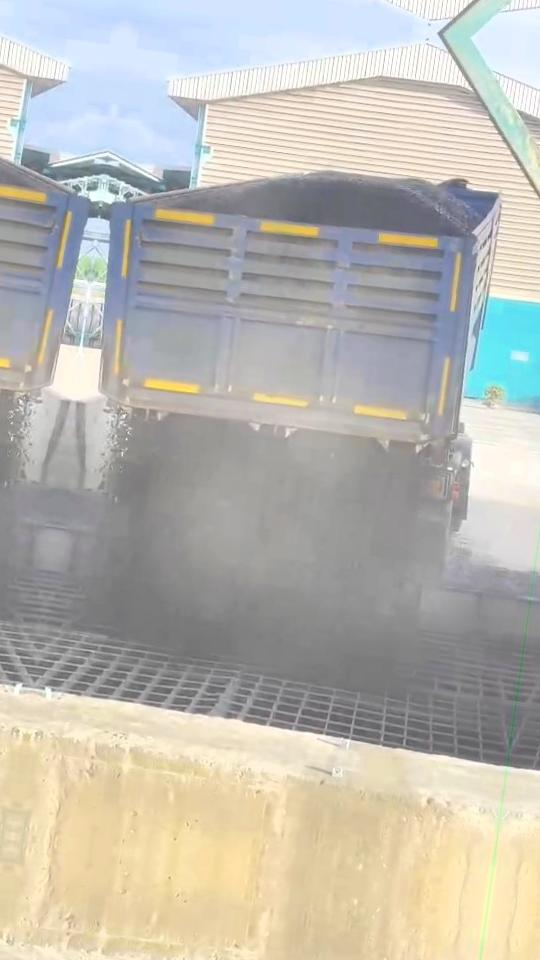gravel: (96, 414, 415, 670), (191, 173, 474, 237), (443, 546, 532, 599)
